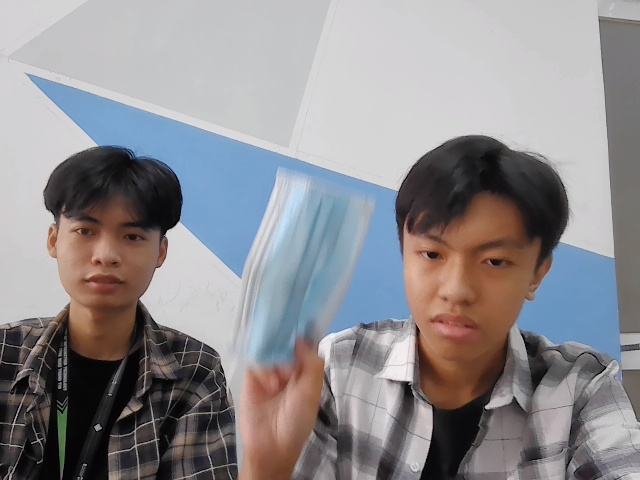human: (396, 126, 563, 356), (47, 142, 186, 312)
mask: (234, 162, 379, 375)
